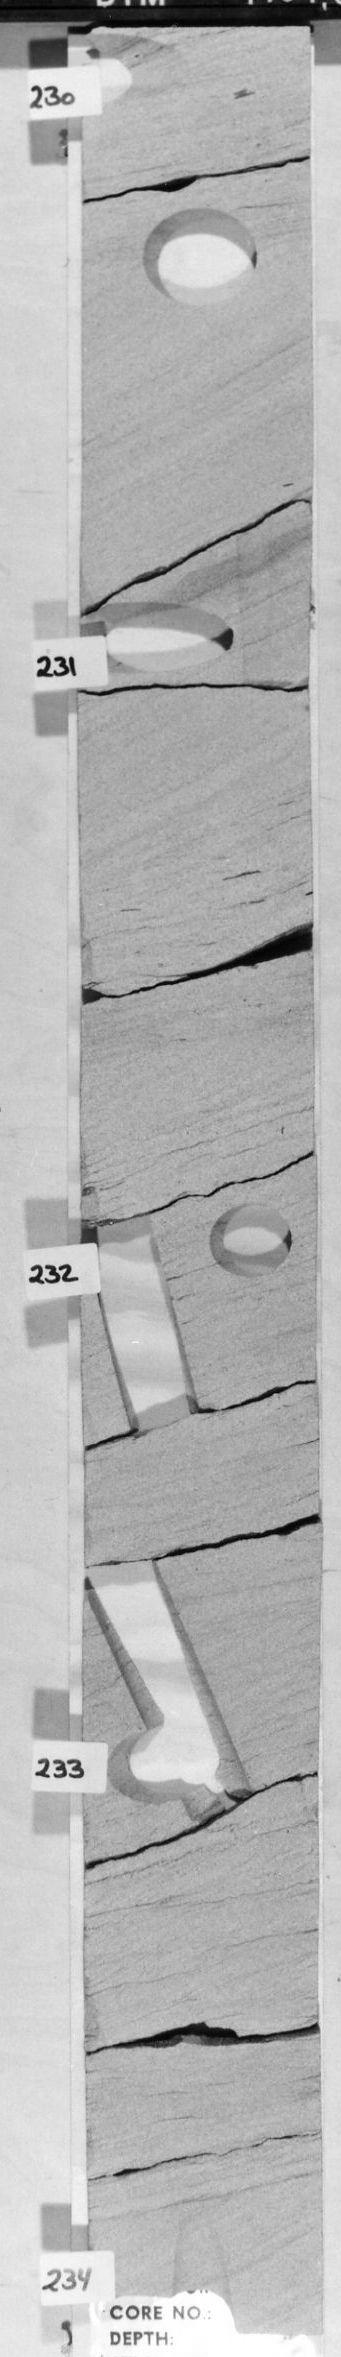hplug: (92, 598, 239, 676), (92, 32, 197, 113), (95, 1723, 183, 1814), (209, 1204, 303, 1285)
scal: (134, 204, 267, 319)
vplug: (87, 1218, 207, 1442), (89, 1554, 188, 1721), (186, 1661, 260, 1822), (164, 2222, 240, 2331)
